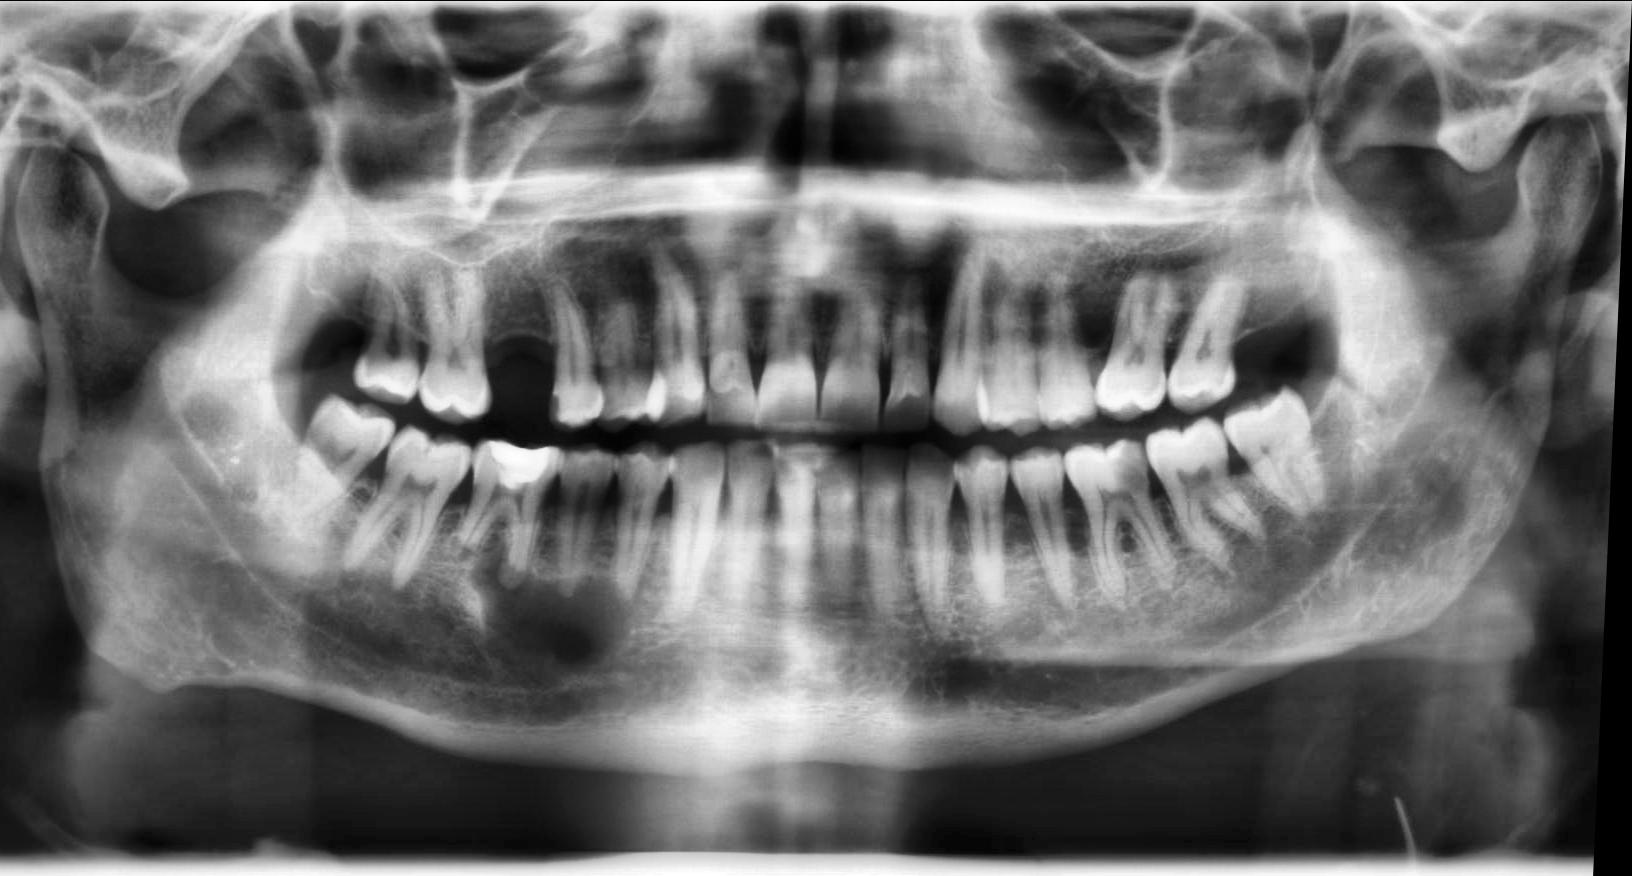okc: (465, 529, 644, 694)
